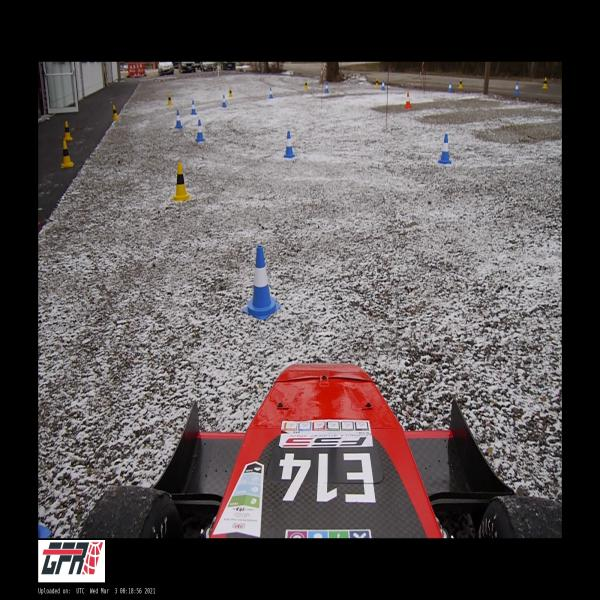blue_cone: (243, 246, 281, 320), (438, 134, 452, 164), (284, 131, 295, 158), (196, 120, 204, 141), (175, 111, 182, 128), (191, 101, 196, 114), (222, 95, 226, 107), (514, 82, 518, 94), (269, 87, 273, 98), (381, 79, 385, 90), (325, 82, 329, 92), (448, 82, 452, 92)
orange_cone: (404, 91, 412, 108)
yellow_cone: (172, 163, 192, 201), (60, 140, 74, 168), (64, 121, 72, 139), (112, 105, 118, 119), (167, 92, 172, 106), (542, 78, 548, 88), (228, 86, 233, 97), (458, 78, 463, 88), (304, 79, 308, 90), (375, 78, 379, 87)
